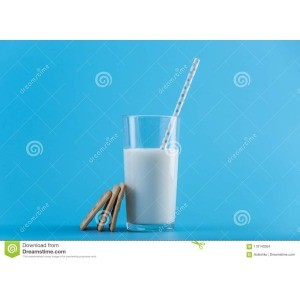milk_brain food: (122, 141, 181, 230)
